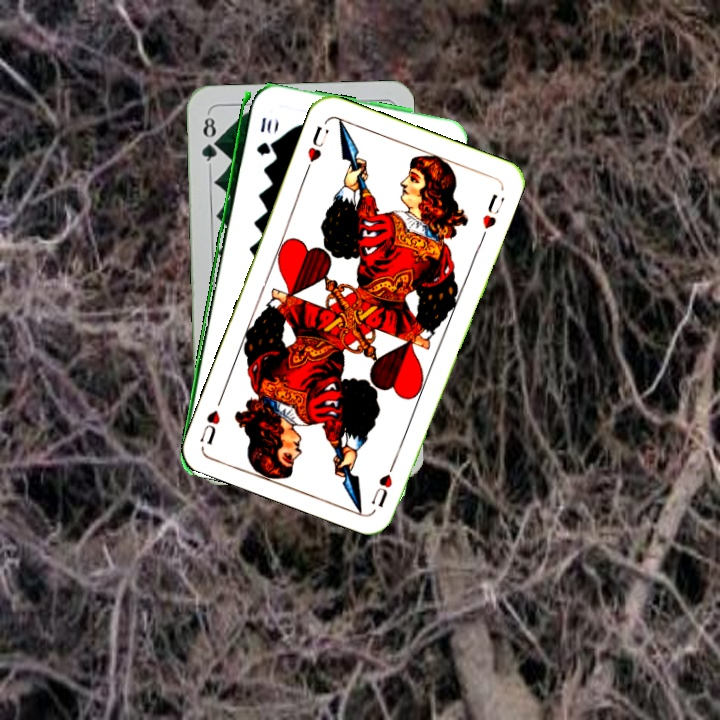G10: (252, 113, 270, 158)
G8: (197, 110, 221, 169)
HU: (367, 454, 399, 510), (301, 122, 326, 175)
